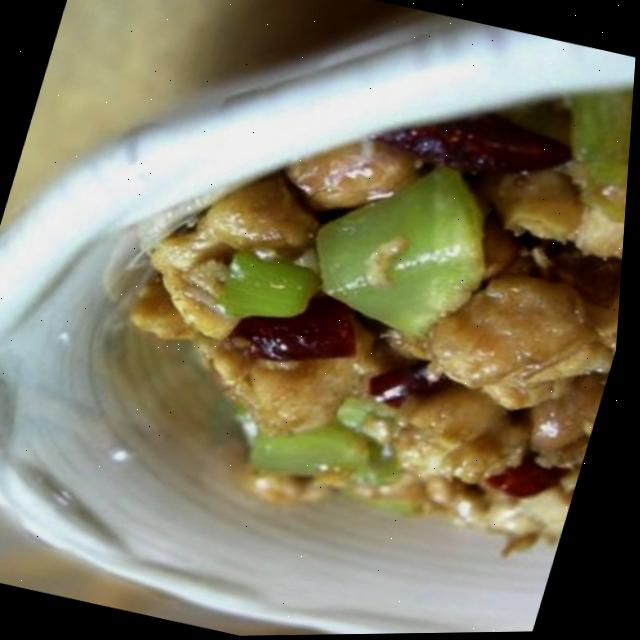鸡肉料理 含炸鸡: (9, 0, 640, 639)
